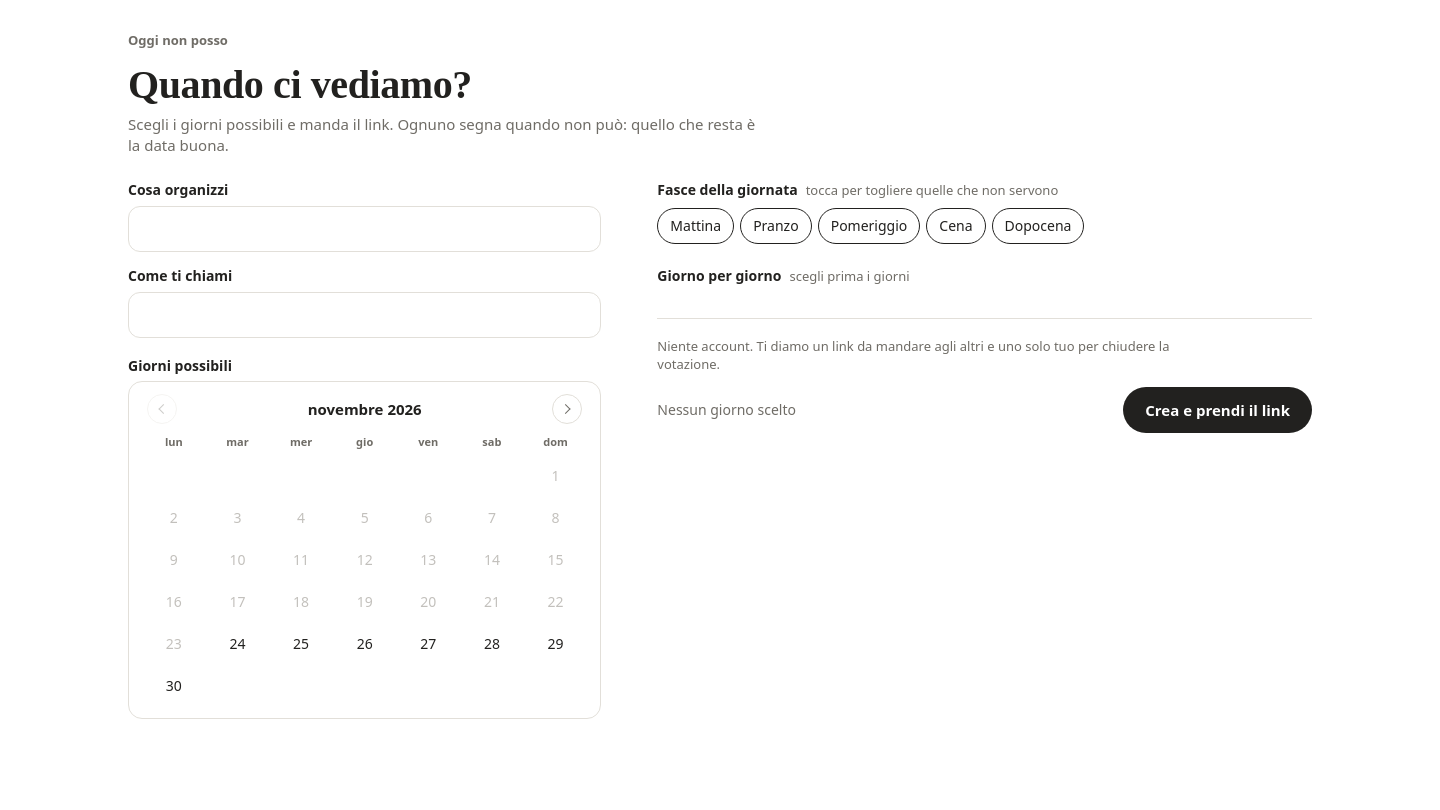
Scenario: creating an event › offers to share only where the browser can
In the field labelled "Cosa organizzi": coordinates (365, 229) [128,206,601,252], type "Rimpatriata di dicembre"
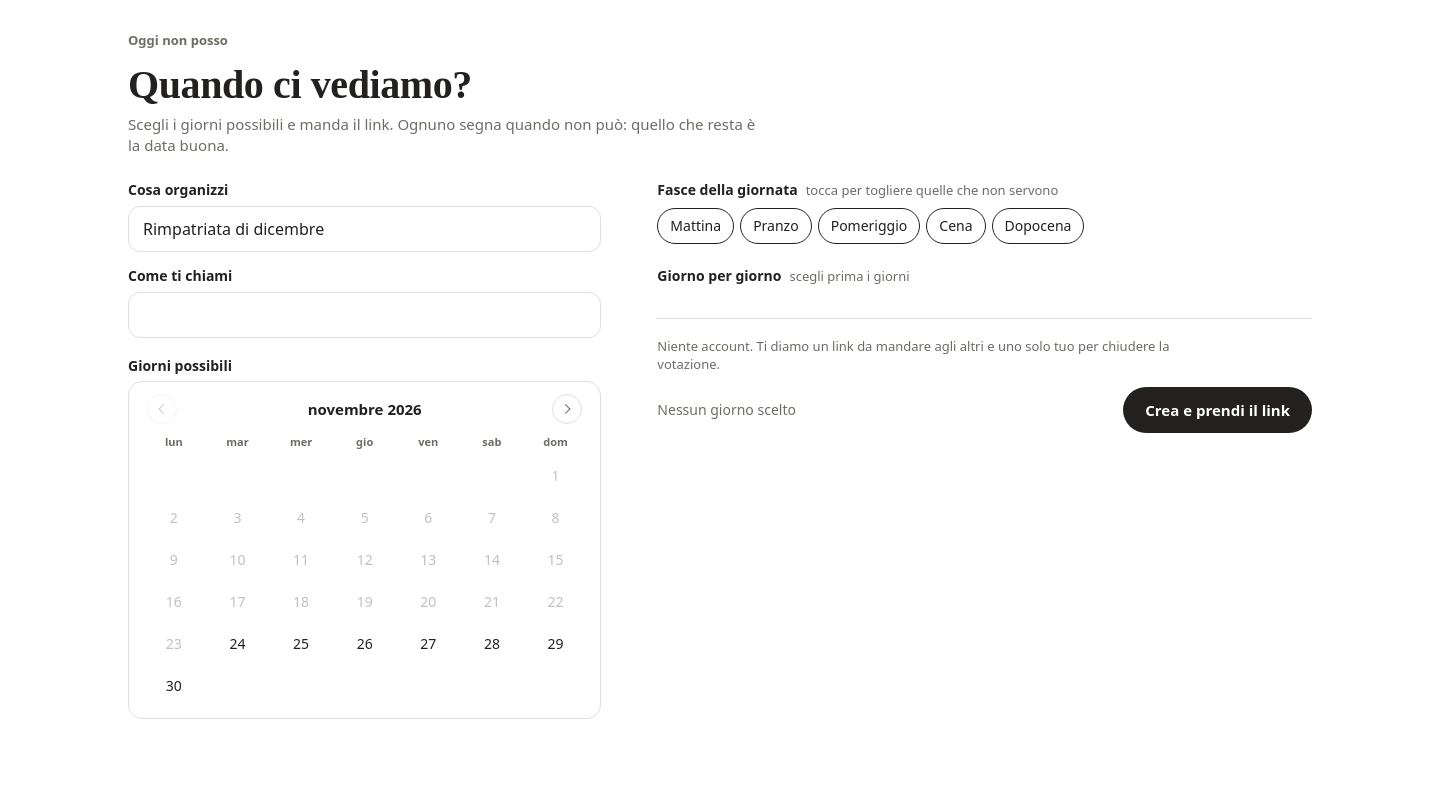
In the field labelled "Come ti chiami": coordinates (365, 315) [128,292,601,338], type "Giulia"
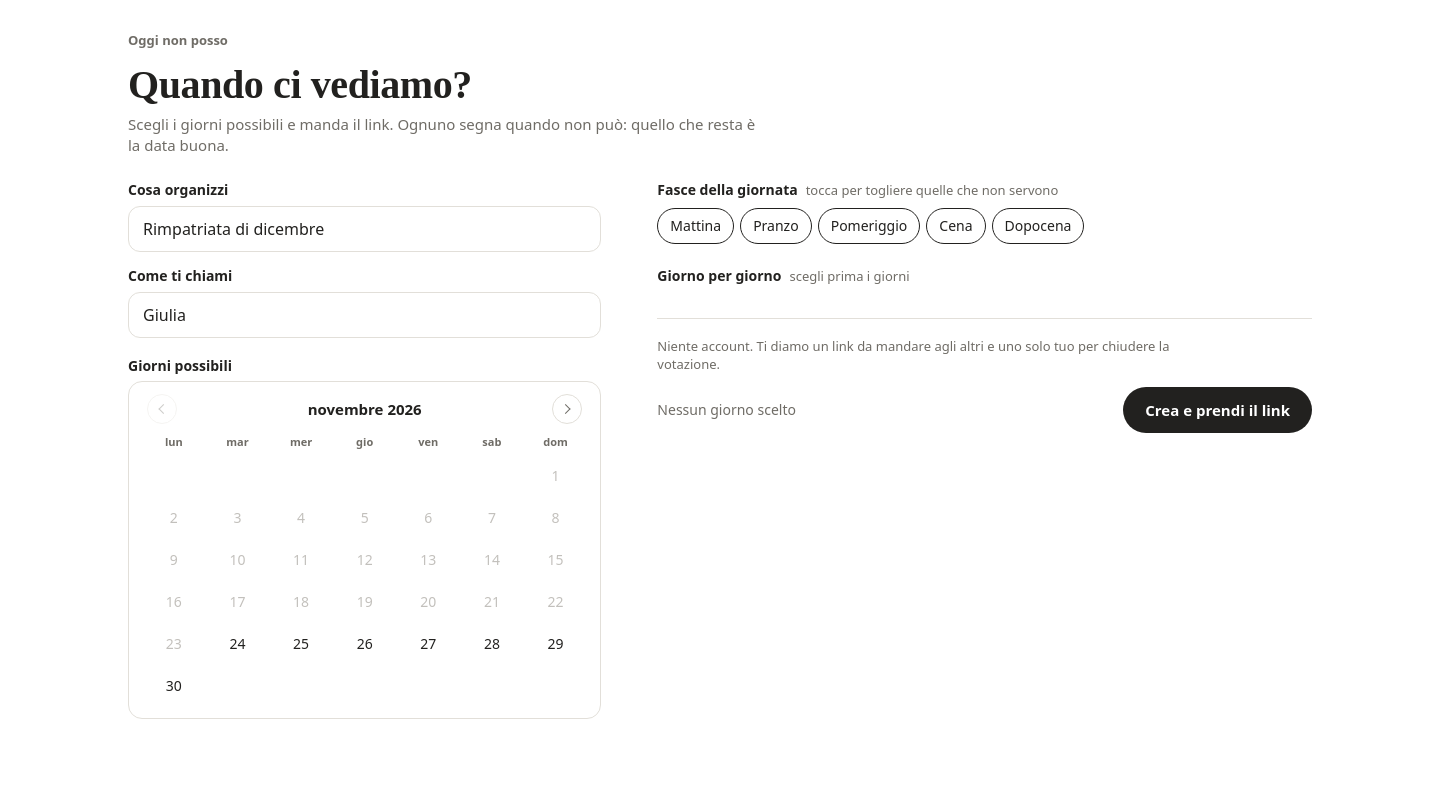
Click the button named "sabato 28 novembre 2026": coordinates (492, 644) [472,624,512,664]
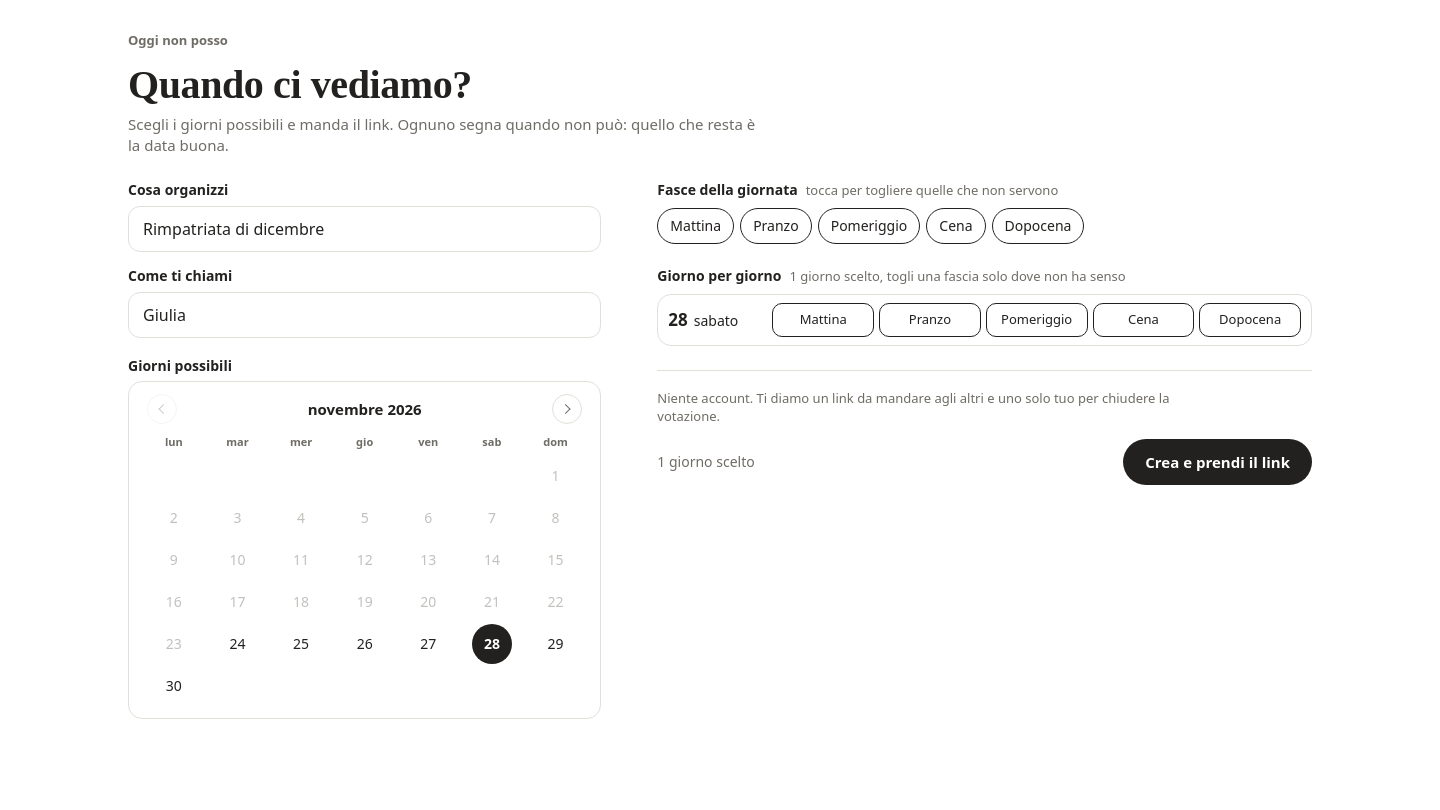
Click the button "Crea e prendi il link": coordinates (1218, 462) [1123,439,1312,485]
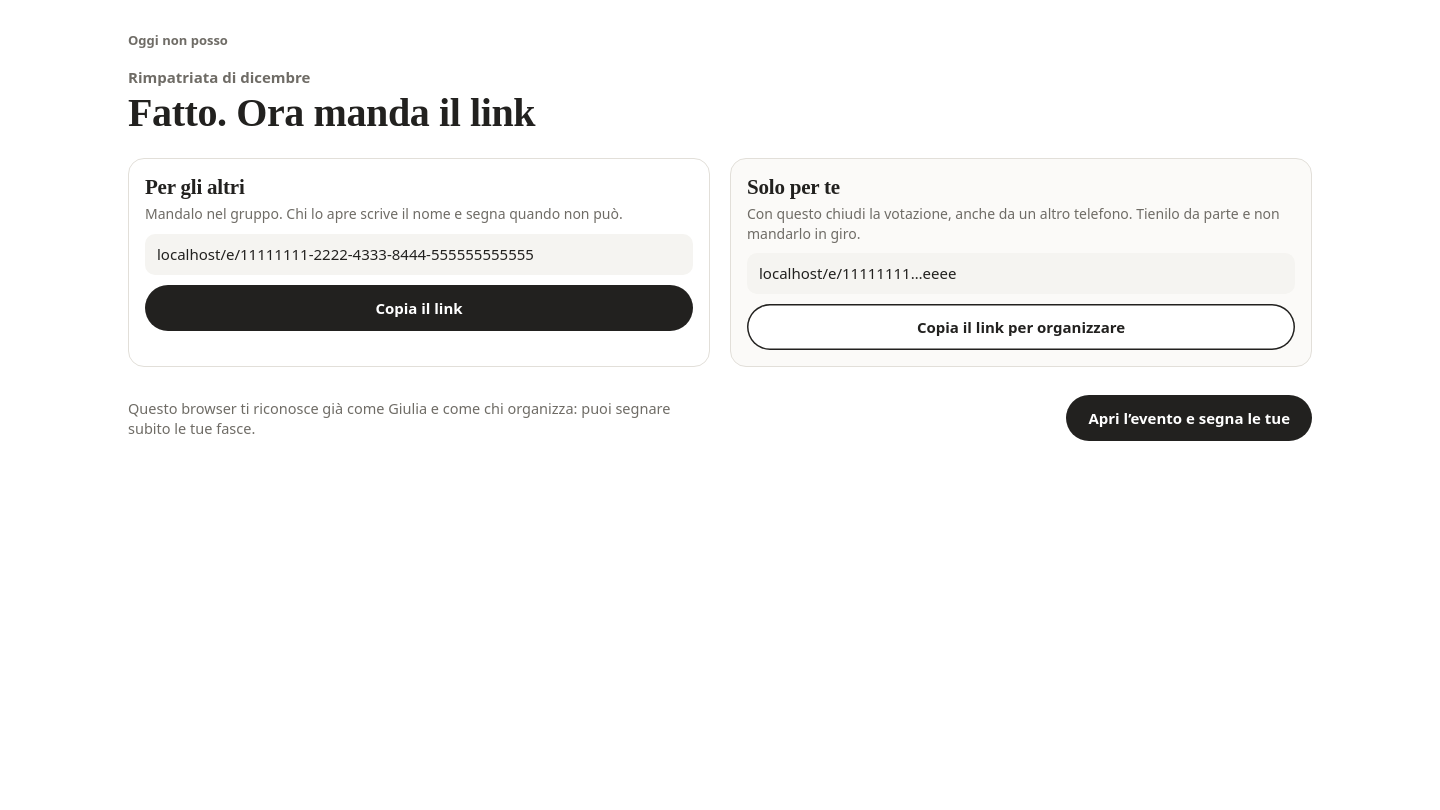
Expected: the text "Fatto. Ora manda il link" is shown, [128,90,535,135]
